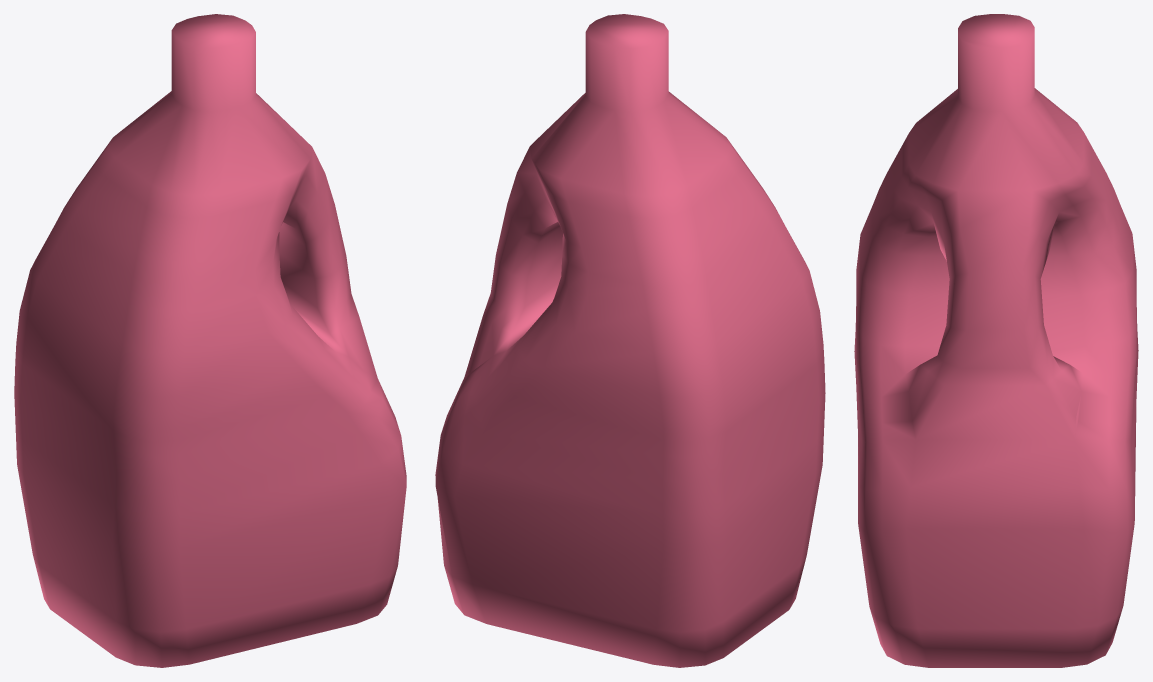
The model's file is detersì.fbx.
The picture shows the model from 3 angles, left to right: view 1: azimuth 30°, elevation 25°; view 2: azimuth 150°, elevation 25°; view 3: azimuth 270°, elevation 25°; orthographic projection.
Parts seen in each view (by area): view 1: Detersivo1; view 2: Detersivo1; view 3: Detersivo1.
Part boxes in pixels (x1=…): Detersivo1: x1=14, y1=14, x2=406, y2=667; Detersivo1: x1=435, y1=14, x2=825, y2=667; Detersivo1: x1=854, y1=14, x2=1138, y2=667.
Size of the model in its own units: 256 by 488 by 220.
